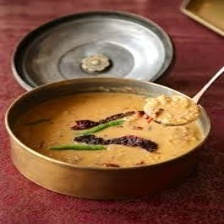dal: (9, 89, 206, 166)
